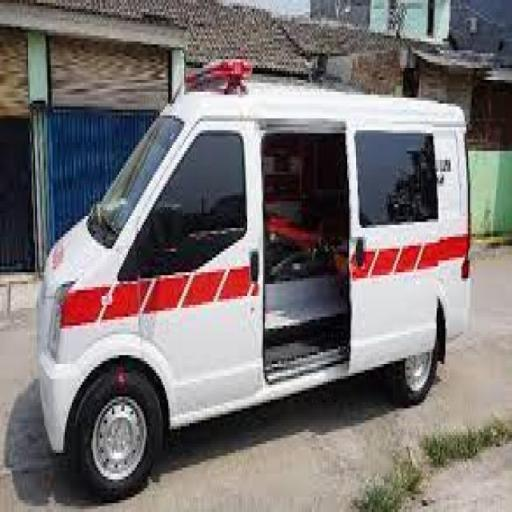Police car: (36, 65, 470, 491)
